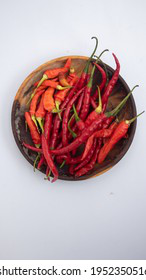Cabai: (31, 65, 120, 162)
